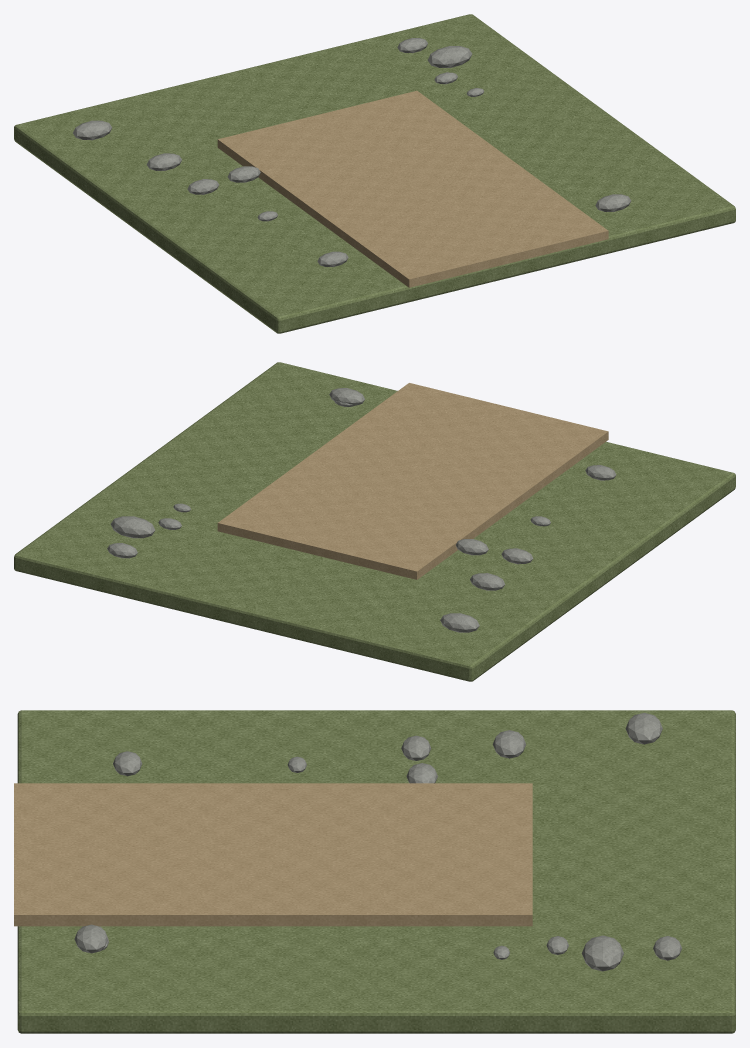
File: ROAD_DIRT_1x1_END.glb
3 renders of one model, top to bottom at view 1: azimuth 30°, elevation 25°; view 2: azimuth 150°, elevation 25°; view 3: azimuth 270°, elevation 25°, orthographic. The views are drawn at different scales.
Visible parts, largest first — view 1: ROAD_DIRT_1x1_END_Visual; view 2: ROAD_DIRT_1x1_END_Visual; view 3: ROAD_DIRT_1x1_END_Visual.
Boxes of the visible parts, left/top/right/bottom form: ROAD_DIRT_1x1_END_Visual: left=14, top=14, right=735, bottom=333; ROAD_DIRT_1x1_END_Visual: left=14, top=362, right=735, bottom=681; ROAD_DIRT_1x1_END_Visual: left=14, top=710, right=735, bottom=1033.
Size of what is drawn, in the model's own units: 1.98 by 0.1415 by 1.99.
Materials: 3 (3 with a texture image).
